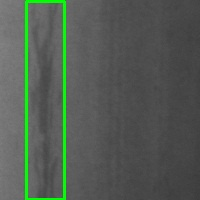inclusion: (26, 1, 64, 199)
